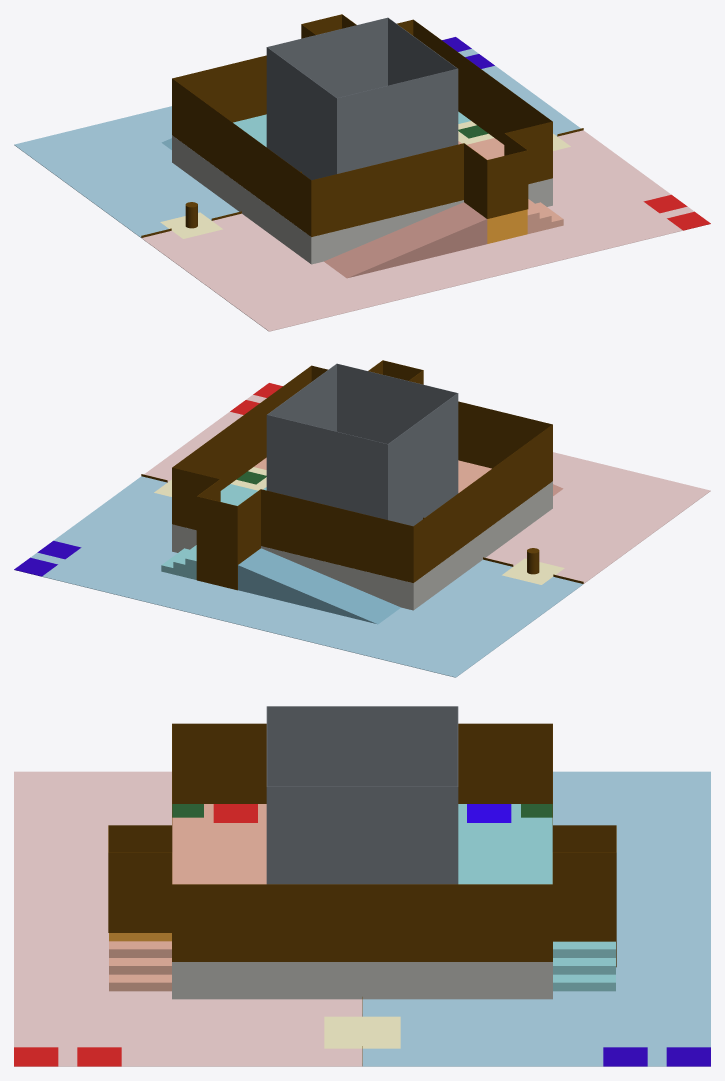
Rendered from robocon2027_level2_only.dae.
3 views of the same model, one above another, from view 1: azimuth 30°, elevation 25°; view 2: azimuth 150°, elevation 25°; view 3: azimuth 270°, elevation 25° (orthographic). The views are drawn at different scales.
Parts seen in each view (by area): view 1: node0, node10, node3, node11, node1, node5, node15, node16, node24, node12, node13, node4 (+2 smaller); view 2: node0, node11, node3, node10, node1, node7, node16, node15, node12, node14, node6, node18 (+1 smaller); view 3: node0, node10, node11, node3, node1, node18, node19, node15, node16, node4, node6, node12 (+6 smaller).
Boxes of the visible parts, x1,y1,x2,y2 form: node0: (141, 14, 583, 237); node10: (141, 130, 694, 321); node3: (266, 17, 458, 180); node11: (54, 49, 580, 237); node1: (172, 135, 552, 264); node5: (324, 202, 487, 278); node15: (222, 287, 309, 331); node16: (14, 135, 99, 178); node24: (487, 209, 527, 243); node12: (160, 133, 570, 238); node13: (643, 194, 710, 230); node4: (527, 199, 563, 233); node0: (141, 360, 583, 590); node11: (30, 476, 583, 667); node3: (266, 363, 458, 526); node10: (144, 395, 670, 583); node1: (172, 481, 552, 610); node7: (238, 548, 400, 624); node16: (415, 633, 502, 677); node15: (625, 481, 710, 524); node12: (154, 479, 564, 584); node14: (14, 540, 81, 576); node6: (161, 545, 196, 579); node18: (254, 457, 491, 492); node0: (108, 723, 616, 1065); node10: (14, 771, 362, 1066); node11: (362, 771, 710, 1066); node3: (266, 706, 458, 884); node1: (172, 962, 552, 999); node18: (172, 804, 266, 884); node19: (458, 804, 552, 884); node15: (14, 771, 140, 798); node16: (584, 771, 710, 798); node4: (109, 941, 171, 991); node6: (553, 941, 615, 991); node12: (324, 1016, 400, 1048).
Bounding box in the file's own units: 11 × 11 × 3.01.
